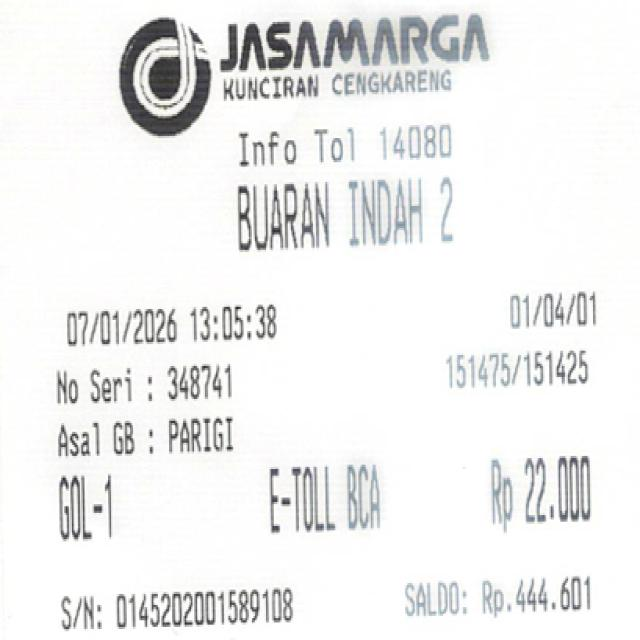date: (53, 300, 287, 357)
store: (205, 8, 502, 114)
total: (470, 438, 600, 528)
